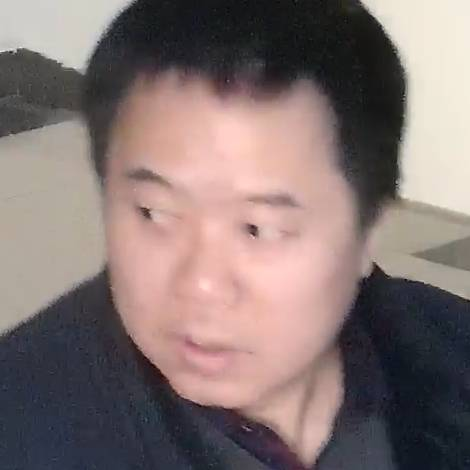caibo: (59, 1, 397, 415)
